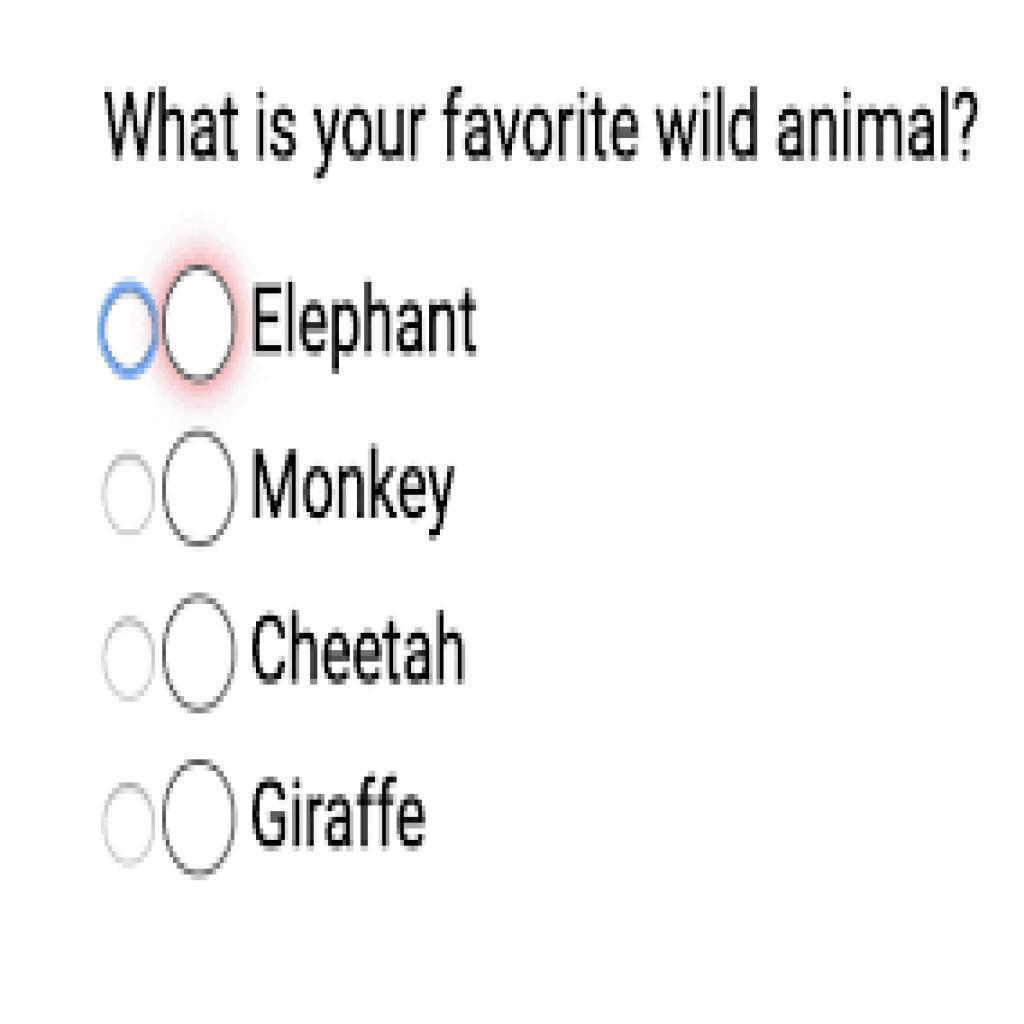label: (98, 82, 976, 174), (246, 436, 462, 534), (255, 605, 476, 695), (252, 275, 487, 359), (246, 768, 432, 851)
radio: (158, 589, 241, 717), (163, 746, 237, 883), (165, 432, 247, 552), (167, 275, 237, 388), (99, 770, 161, 875), (94, 610, 161, 706), (95, 282, 157, 384), (104, 453, 162, 548)
